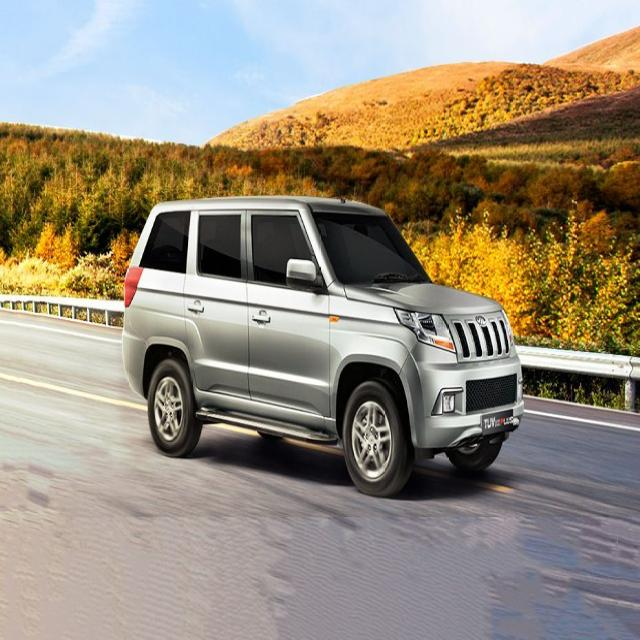light_vehicle: (117, 195, 527, 493)
